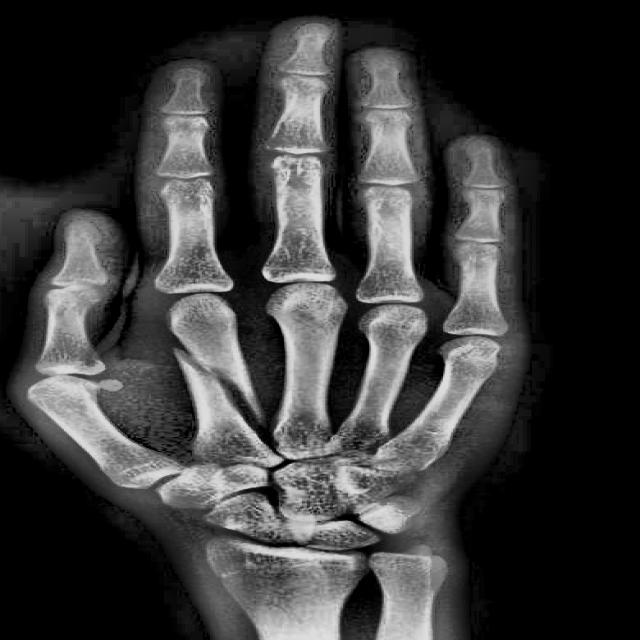fracture: (166, 324, 267, 440)
